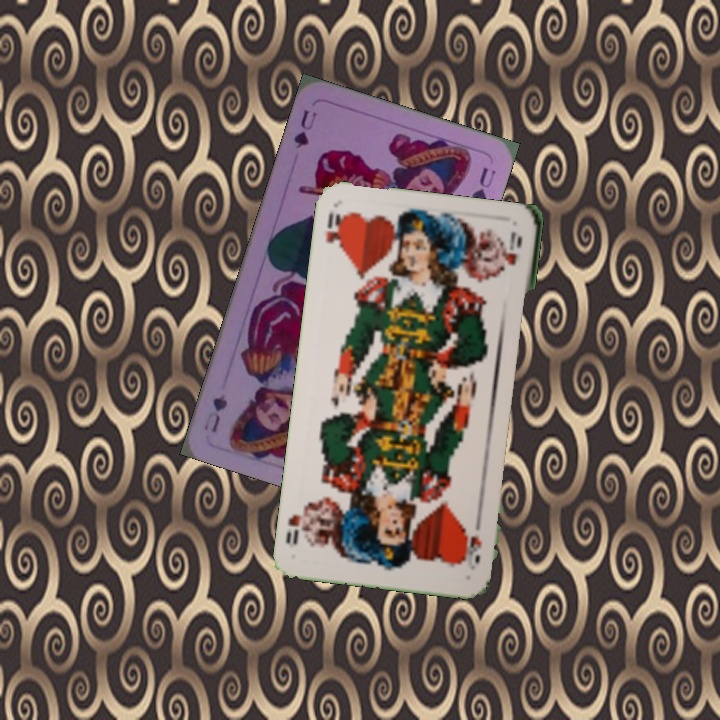GU: (289, 105, 320, 151)
HO: (321, 208, 348, 256), (467, 515, 484, 568)
